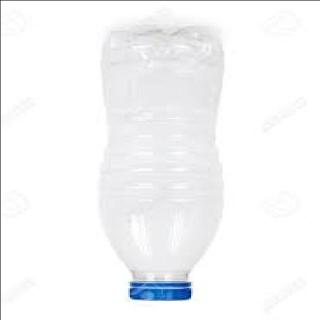Anorganik: (85, 16, 228, 307)
